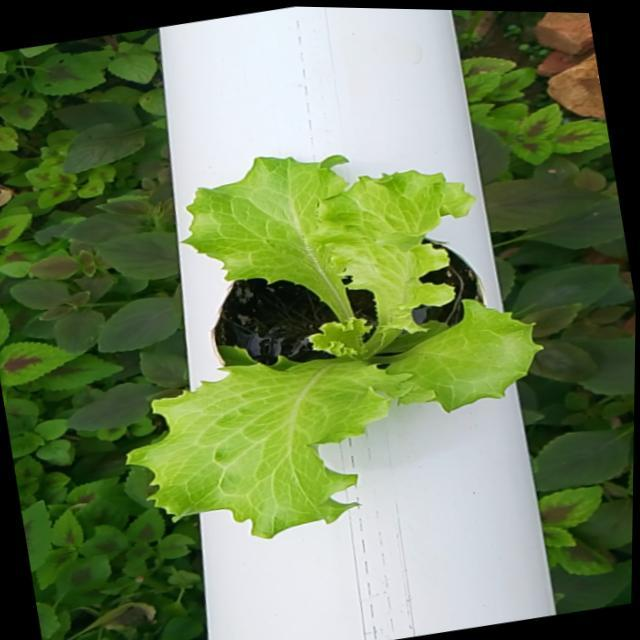Baby: (147, 151, 559, 531)
